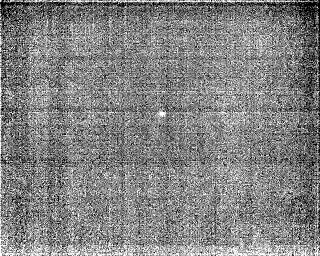BIRD: (155, 108, 169, 120)
